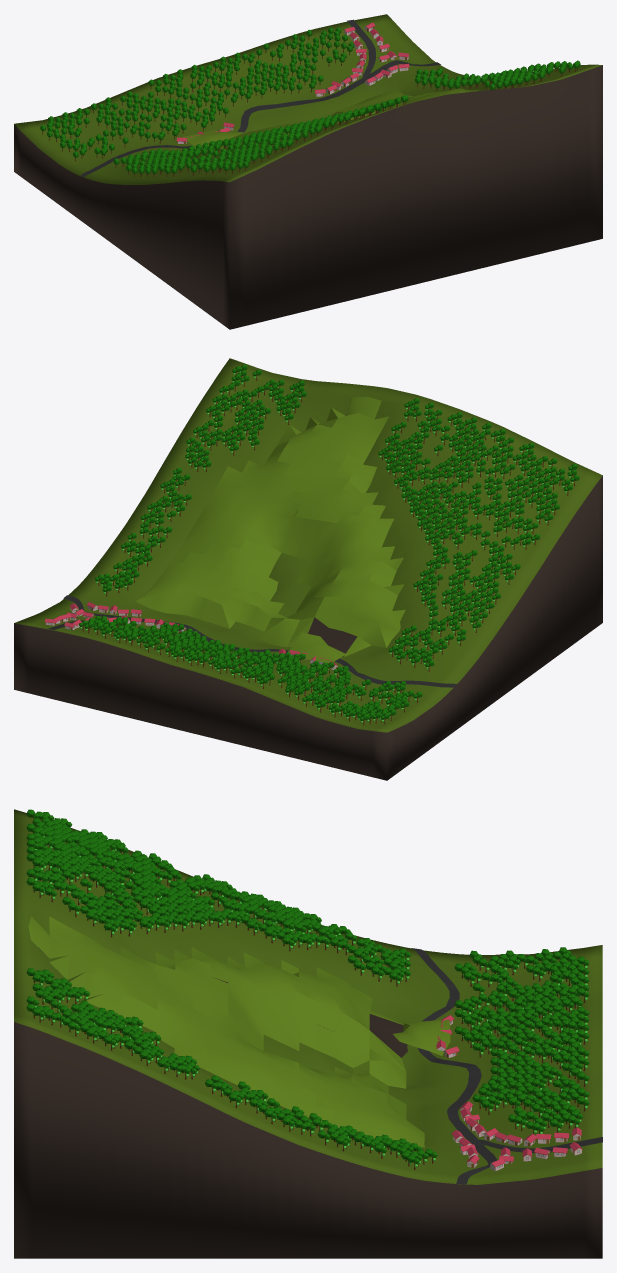
Rendered from Tanah_Longsor_Low_Revision.fbx.
The picture shows the model from 3 angles, top to bottom: view 1: azimuth 30°, elevation 25°; view 2: azimuth 150°, elevation 25°; view 3: azimuth 270°, elevation 25°; orthographic projection. The views are drawn at different scales.
Parts seen in each view (by area): view 1: Terrain, Road, House, Terrain.001_Small, Terrain.003; view 2: Terrain, Terrain.005, Terrain.004, Terrain.003, Terrain.007, Terrain.001, Terrain.002, Terrain.006, House, Road, Terrain.001_Small; view 3: Terrain, Terrain.005, Terrain.004, Terrain.007, Terrain.003, Terrain.002, Terrain.001, Terrain.006, Road, House, Terrain.001_Small.
Boxes of the visible parts, box(x1,y1,x2,y2) form: Terrain: box(14, 14, 602, 329); Road: box(80, 19, 440, 177); House: box(176, 22, 409, 143); Terrain.001_Small: box(183, 130, 245, 151); Terrain.003: box(338, 88, 412, 112); Terrain: box(14, 358, 602, 780); Terrain.005: box(170, 440, 308, 562); Terrain.004: box(296, 504, 404, 598); Terrain.003: box(135, 539, 281, 619); Terrain.007: box(276, 397, 388, 493); Terrain.001: box(287, 580, 405, 656); Terrain.002: box(201, 587, 324, 646); Terrain.006: box(286, 454, 378, 522); House: box(45, 602, 338, 669); Road: box(47, 595, 456, 687); Terrain.001_Small: box(288, 632, 346, 663); Terrain: box(14, 809, 602, 1258); Terrain.005: box(122, 994, 333, 1124); Terrain.004: box(174, 946, 341, 1050); Terrain.007: box(28, 916, 192, 1015); Terrain.003: box(299, 1063, 424, 1147); Terrain.002: box(316, 1013, 406, 1119); Terrain.001: box(299, 967, 407, 1071); Terrain.006: box(120, 945, 228, 1017); Road: box(412, 948, 602, 1184); House: box(436, 1015, 582, 1170); Terrain.001_Small: box(393, 1019, 450, 1055).
Size of the model in its own units: 200 by 94.85 by 200.
